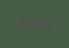one: (36, 20, 41, 28)
seven: (42, 20, 47, 28)
six: (24, 19, 29, 27)
three: (30, 19, 35, 28)
two: (18, 18, 23, 27)
